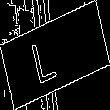L_N: (40, 26, 70, 84)
